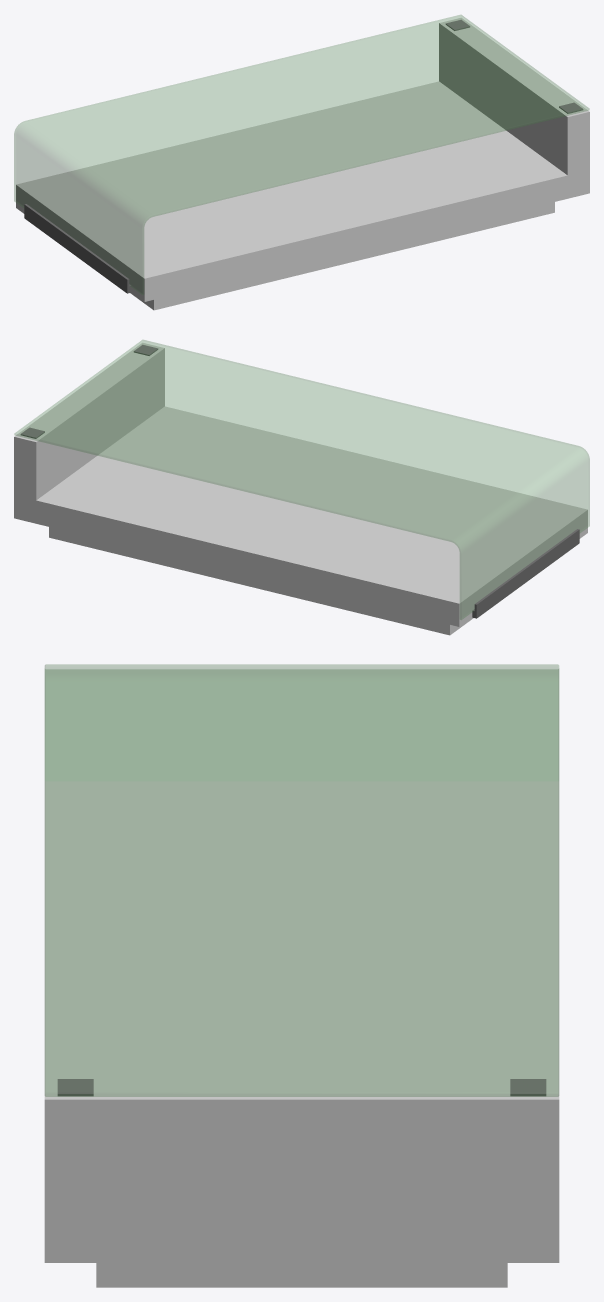
The model's file is glass-table.fbx.
3 views of the same model, one above another, from view 1: azimuth 30°, elevation 25°; view 2: azimuth 150°, elevation 25°; view 3: azimuth 270°, elevation 25° (orthographic). The views are drawn at different scales.
Parts seen in each view (by area): view 1: Group_004, Group_007, Group_002, Group_003, Group_005; view 2: Group_004, Group_007, Group_002, Group_003, Group_005; view 3: Group_004, Group_007, Group_002, Group_003.
Part boxes in pixels (x1,y1,x2,y2): Group_004: [14, 15, 589, 294]; Group_007: [16, 81, 589, 301]; Group_002: [439, 18, 589, 175]; Group_003: [130, 202, 554, 310]; Group_005: [24, 204, 131, 293]; Group_004: [14, 340, 589, 619]; Group_007: [14, 406, 587, 626]; Group_002: [14, 343, 164, 500]; Group_003: [49, 527, 473, 635]; Group_005: [472, 529, 579, 618]; Group_004: [44, 664, 559, 1096]; Group_007: [44, 781, 559, 1262]; Group_002: [44, 1078, 559, 1216]; Group_003: [96, 1263, 507, 1287].
Size of the model in its own units: 79.53 by 18.31 by 39.37.
